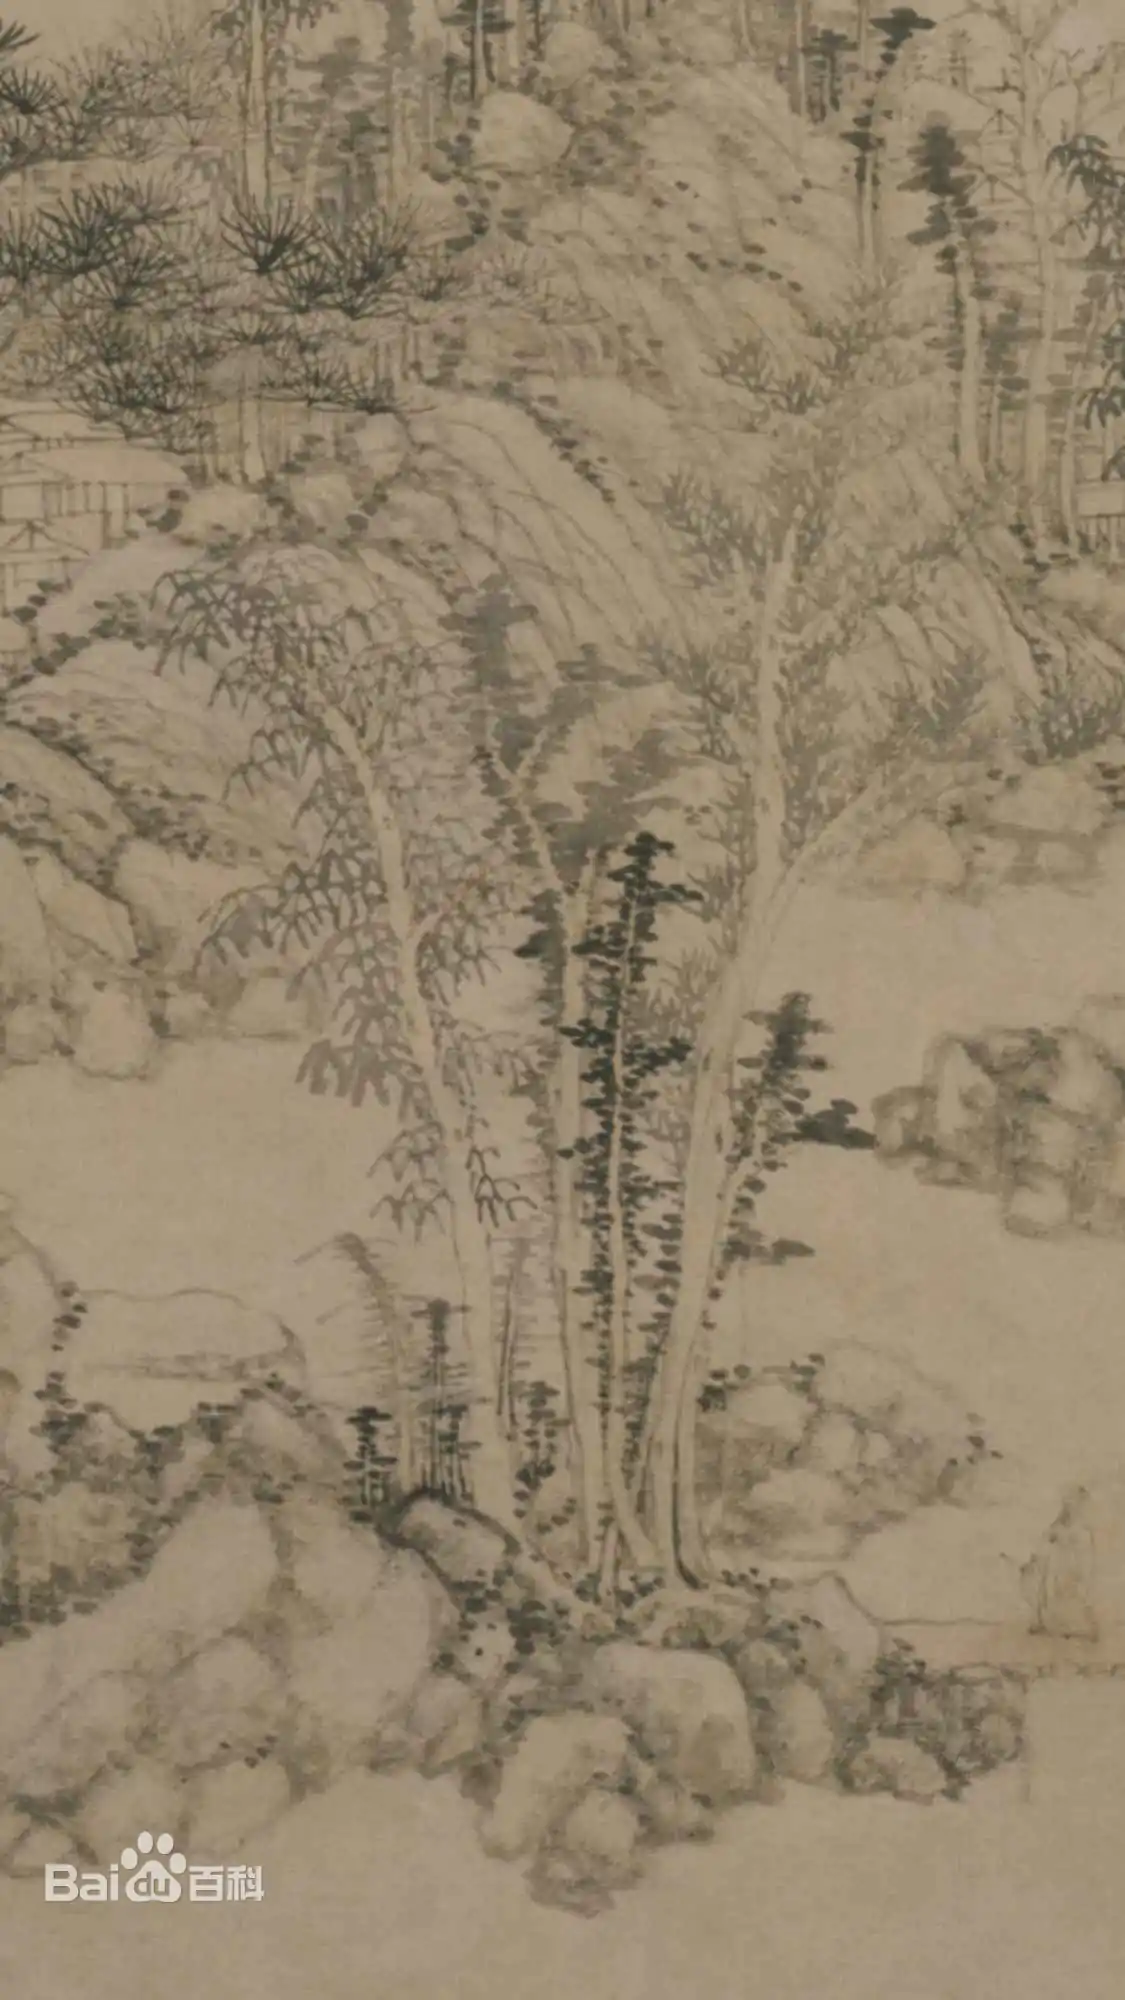house: (5, 418, 181, 598)
pine: (7, 37, 499, 407)
rock: (7, 1198, 449, 1898), (479, 1643, 1005, 1918), (865, 1023, 1125, 1276)
tree: (238, 593, 746, 1604), (769, 15, 1125, 598)
